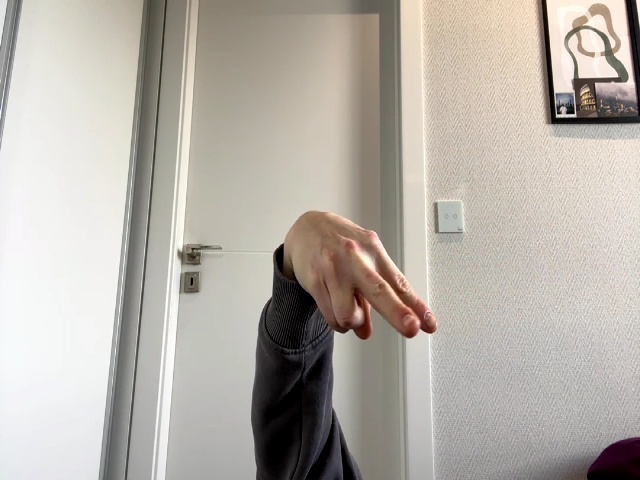U: (284, 211, 437, 338)
